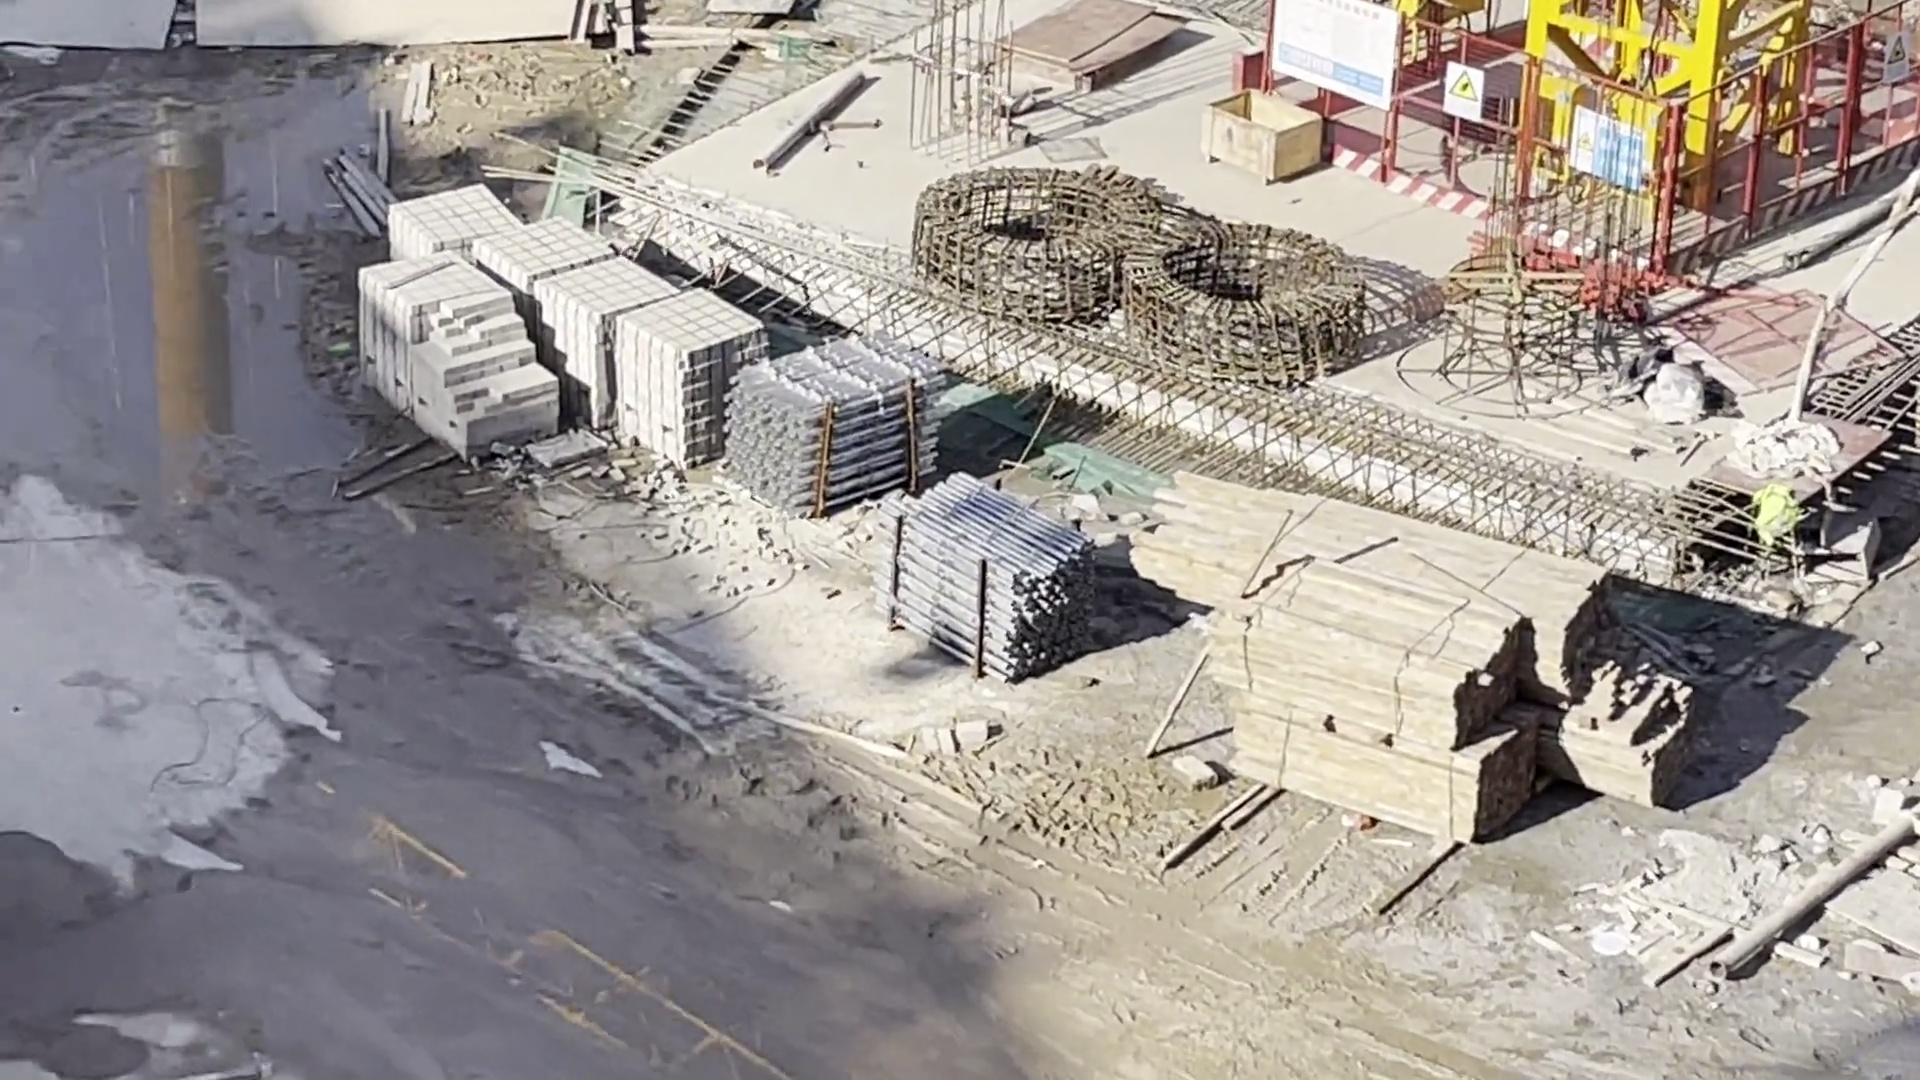board: (1000, 1, 1182, 108)
brick: (338, 146, 728, 465)
scaffold: (872, 487, 1106, 679), (742, 339, 916, 512)
wood: (1319, 518, 1684, 799)
